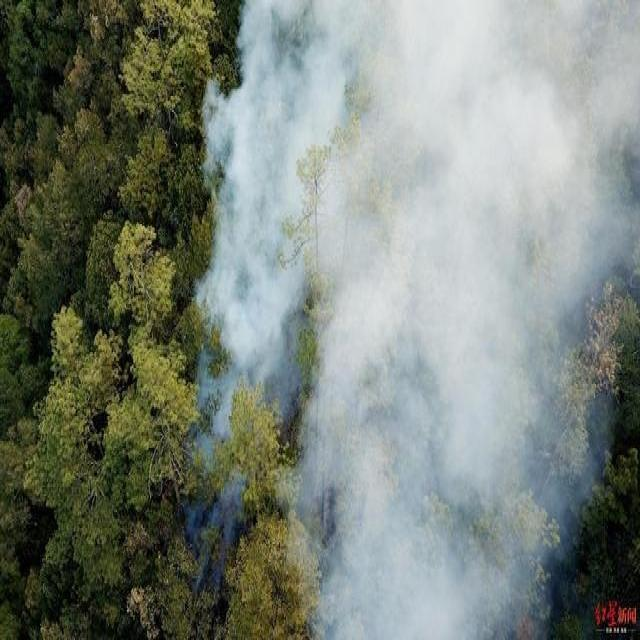Smoke: (183, 1, 640, 638)
